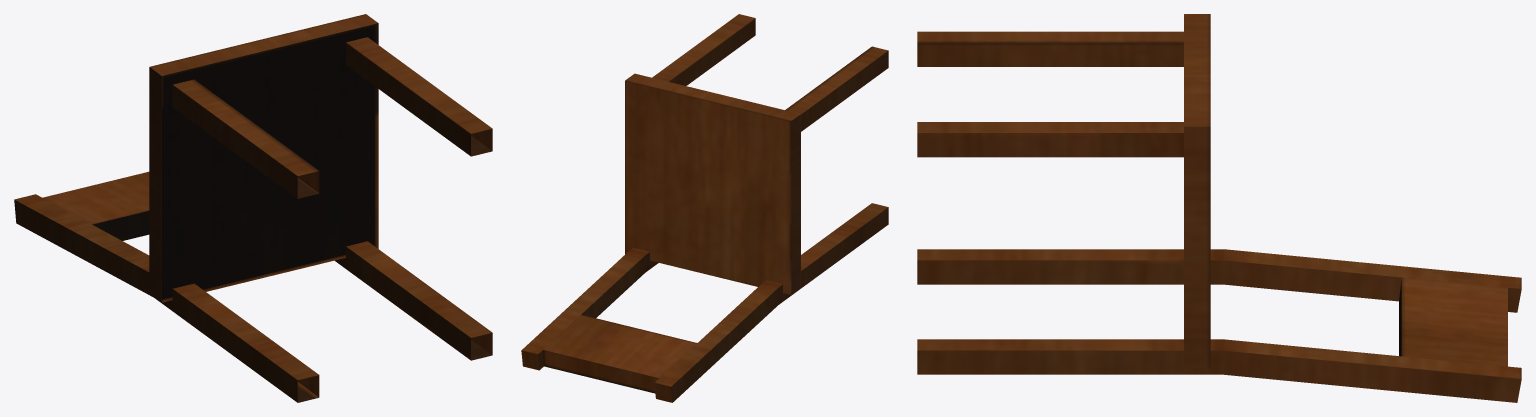
Rendered from chair.dae.
The picture shows the model from 3 angles, left to right: view 1: azimuth 30°, elevation 25°; view 2: azimuth 150°, elevation 25°; view 3: azimuth 270°, elevation 25°; orthographic projection. The views are drawn at different scales.
Parts seen in each view (by area): view 1: Cube_003; view 2: Cube_003; view 3: Cube_003.
Boxes of the visible parts, x1,y1,x2,y2 form: Cube_003: (14,14,492,402); Cube_003: (521,14,888,402); Cube_003: (917,14,1521,402).
Size of the model in its own units: 0.6987 by 1.58 by 0.8151.
1 material, 1 textured.
